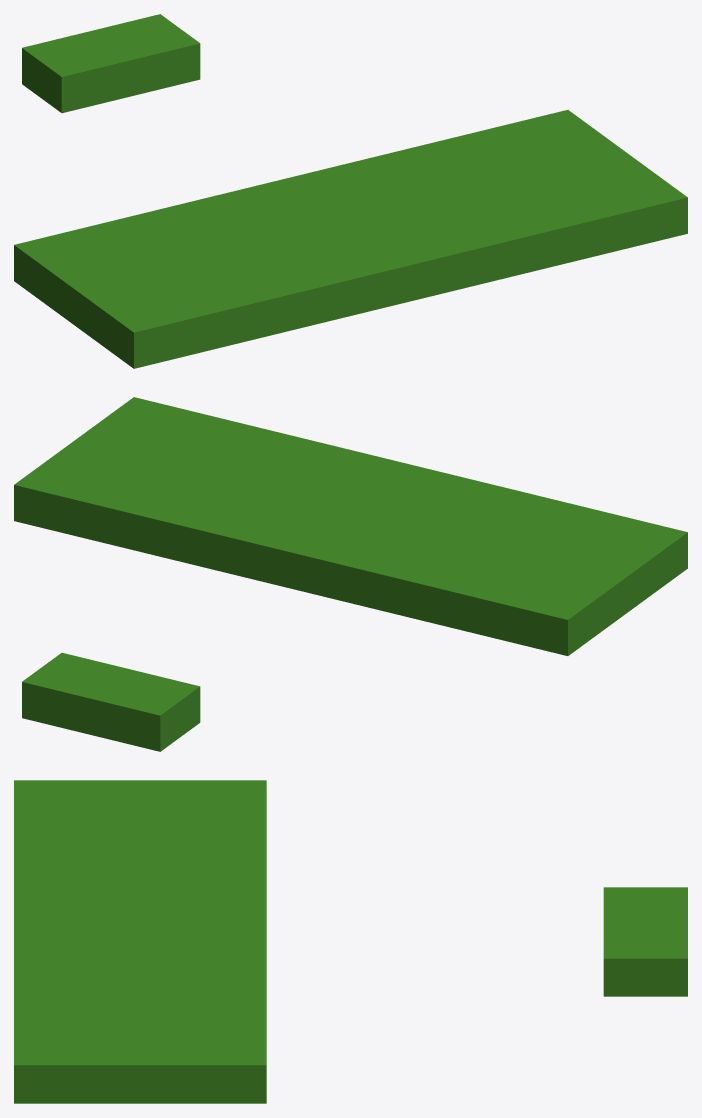
The model's file is ground.obj.
The picture shows the model from 3 angles, top to bottom: view 1: azimuth 30°, elevation 25°; view 2: azimuth 150°, elevation 25°; view 3: azimuth 270°, elevation 25°; orthographic projection. The views are drawn at different scales.
Visible parts, largest first — view 1: cube; view 2: cube; view 3: cube.
Part boxes in pixels (left/top/right/bottom): cube: left=14, top=14, right=687, bottom=368; cube: left=14, top=397, right=687, bottom=751; cube: left=14, top=780, right=687, bottom=1103.
Size of the model in its own units: 1 by 0.0625 by 1.
1 material, 1 textured.
